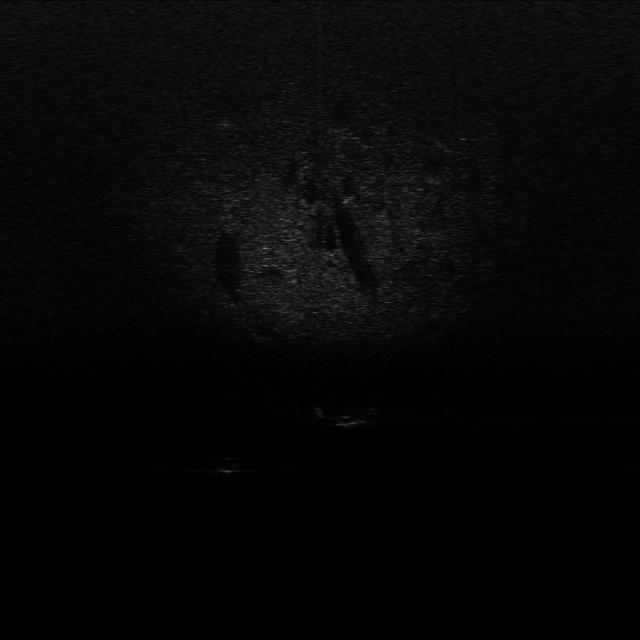ball: (211, 453, 247, 477)
human body: (310, 402, 390, 430)
